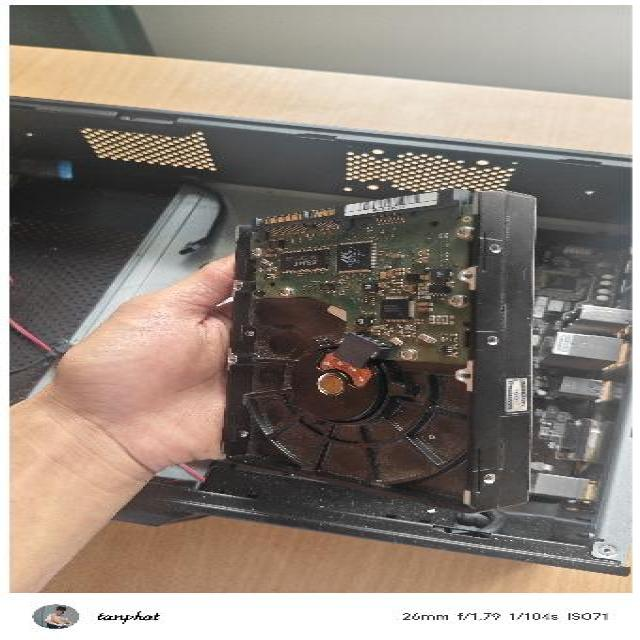DISK: (207, 182, 544, 514)
